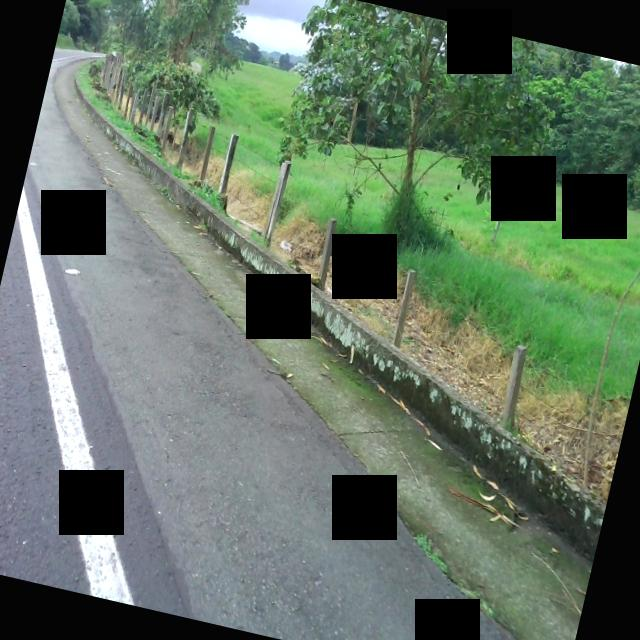DITCH: (0, 2, 640, 640), (0, 12, 640, 640), (0, 39, 640, 640)
